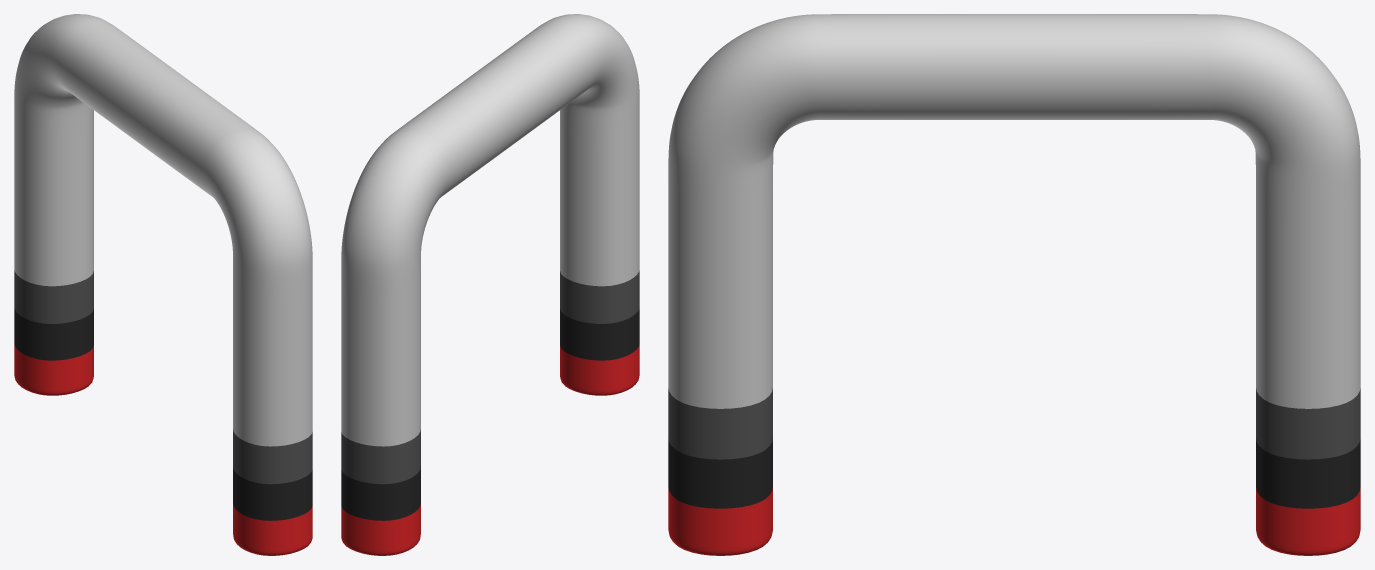
Rendered from pneumatic_gate3.fbx.
3 views of the same model, side by side, from view 1: azimuth 30°, elevation 25°; view 2: azimuth 150°, elevation 25°; view 3: azimuth 270°, elevation 25° (orthographic). The views are drawn at different scales.
Visible parts, largest first — view 1: gate; view 2: gate; view 3: gate.
Part boxes in pixels (bbox=[...]): gate: bbox=[14, 14, 312, 555]; gate: bbox=[341, 14, 639, 555]; gate: bbox=[668, 14, 1360, 555].
Size of the model in its own units: 214 by 1169 by 1414.
